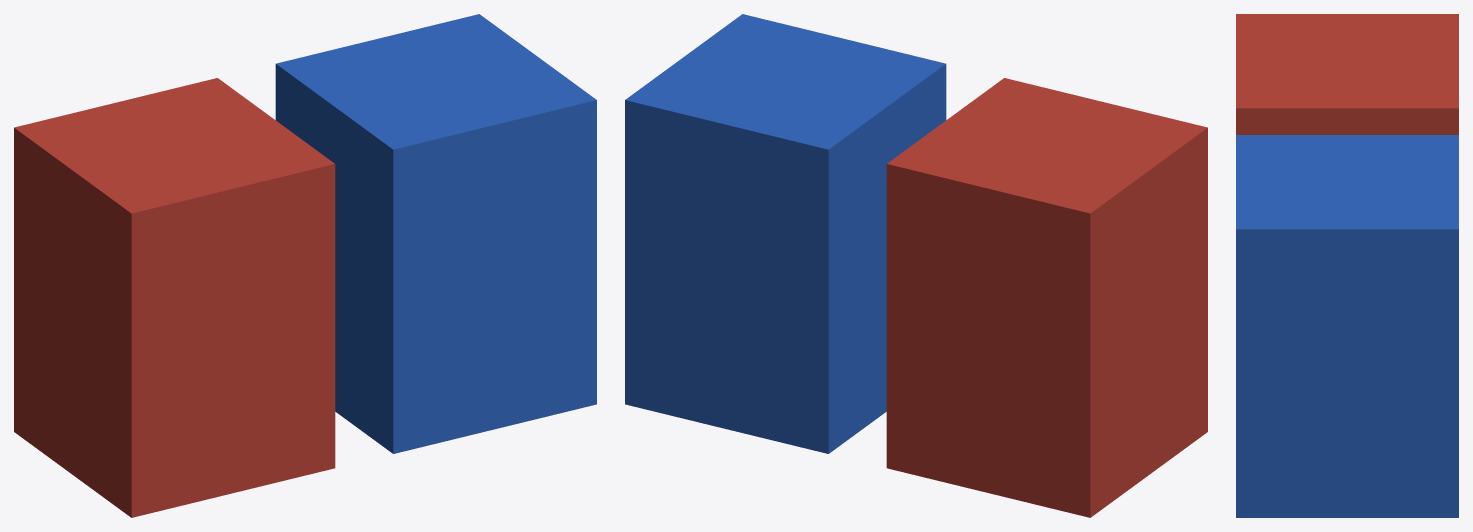
3 views of the same model, side by side, from view 1: azimuth 30°, elevation 25°; view 2: azimuth 150°, elevation 25°; view 3: azimuth 270°, elevation 25° (orthographic). The views are drawn at different scales.
Parts seen in each view (by area): view 1: Cube, Cube.001; view 2: Cube, Cube.001; view 3: Cube.001, Cube.
Boxes of the visible parts, x1=… form: Cube: x1=14, y1=78, x2=335, y2=517; Cube.001: x1=275, y1=14, x2=596, y2=453; Cube: x1=886, y1=78, x2=1207, y2=517; Cube.001: x1=625, y1=14, x2=946, y2=453; Cube.001: x1=1236, y1=135, x2=1458, y2=517; Cube: x1=1236, y1=14, x2=1458, y2=134.
Size of the model in its own units: 0.16 by 0.1 by 0.07.
